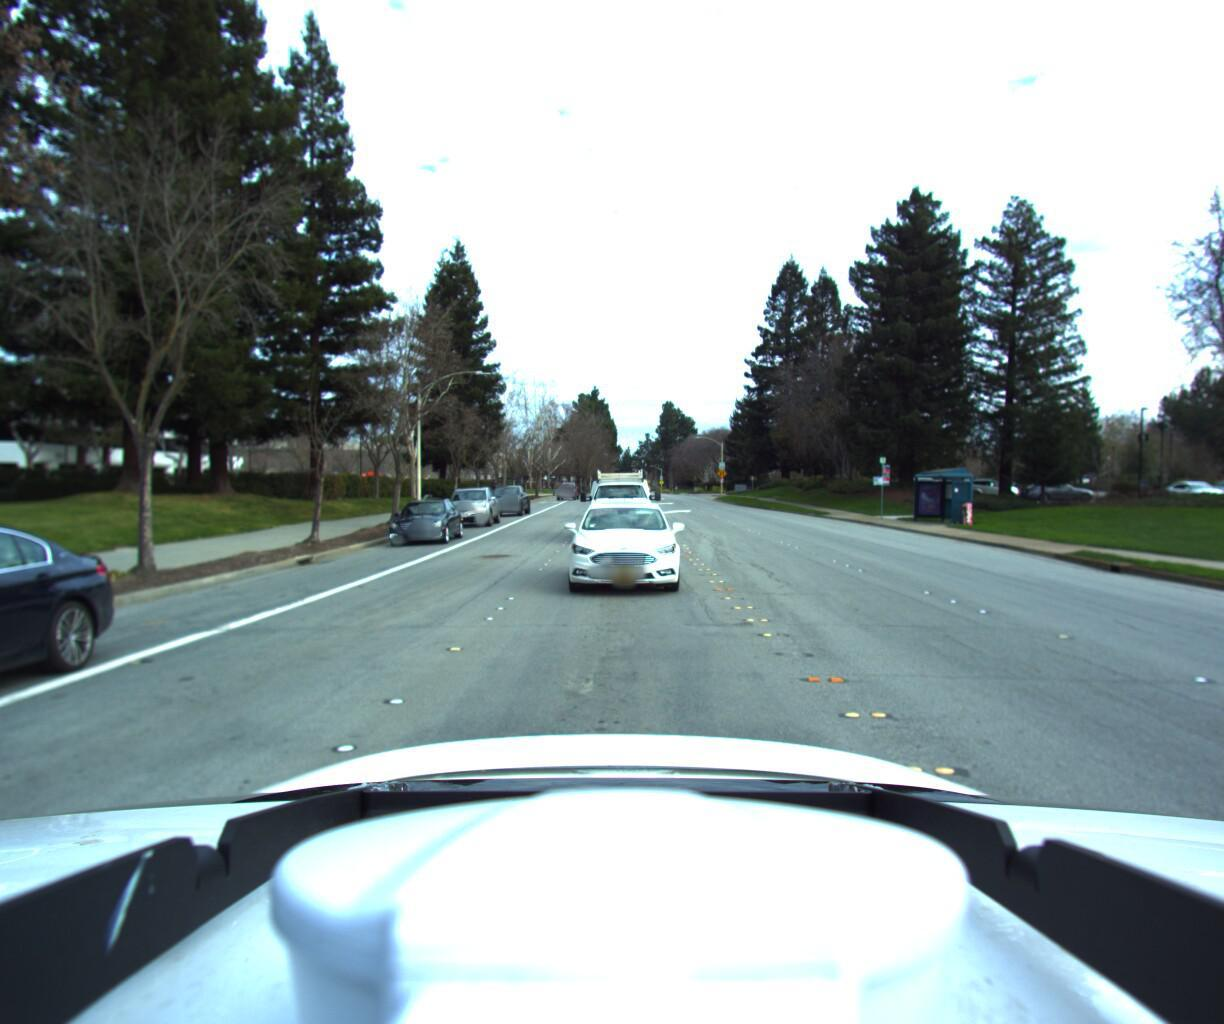car: (0, 506, 124, 849), (557, 496, 680, 598), (574, 459, 659, 548), (383, 497, 460, 547), (441, 485, 499, 526), (483, 482, 529, 516), (550, 486, 576, 506)
